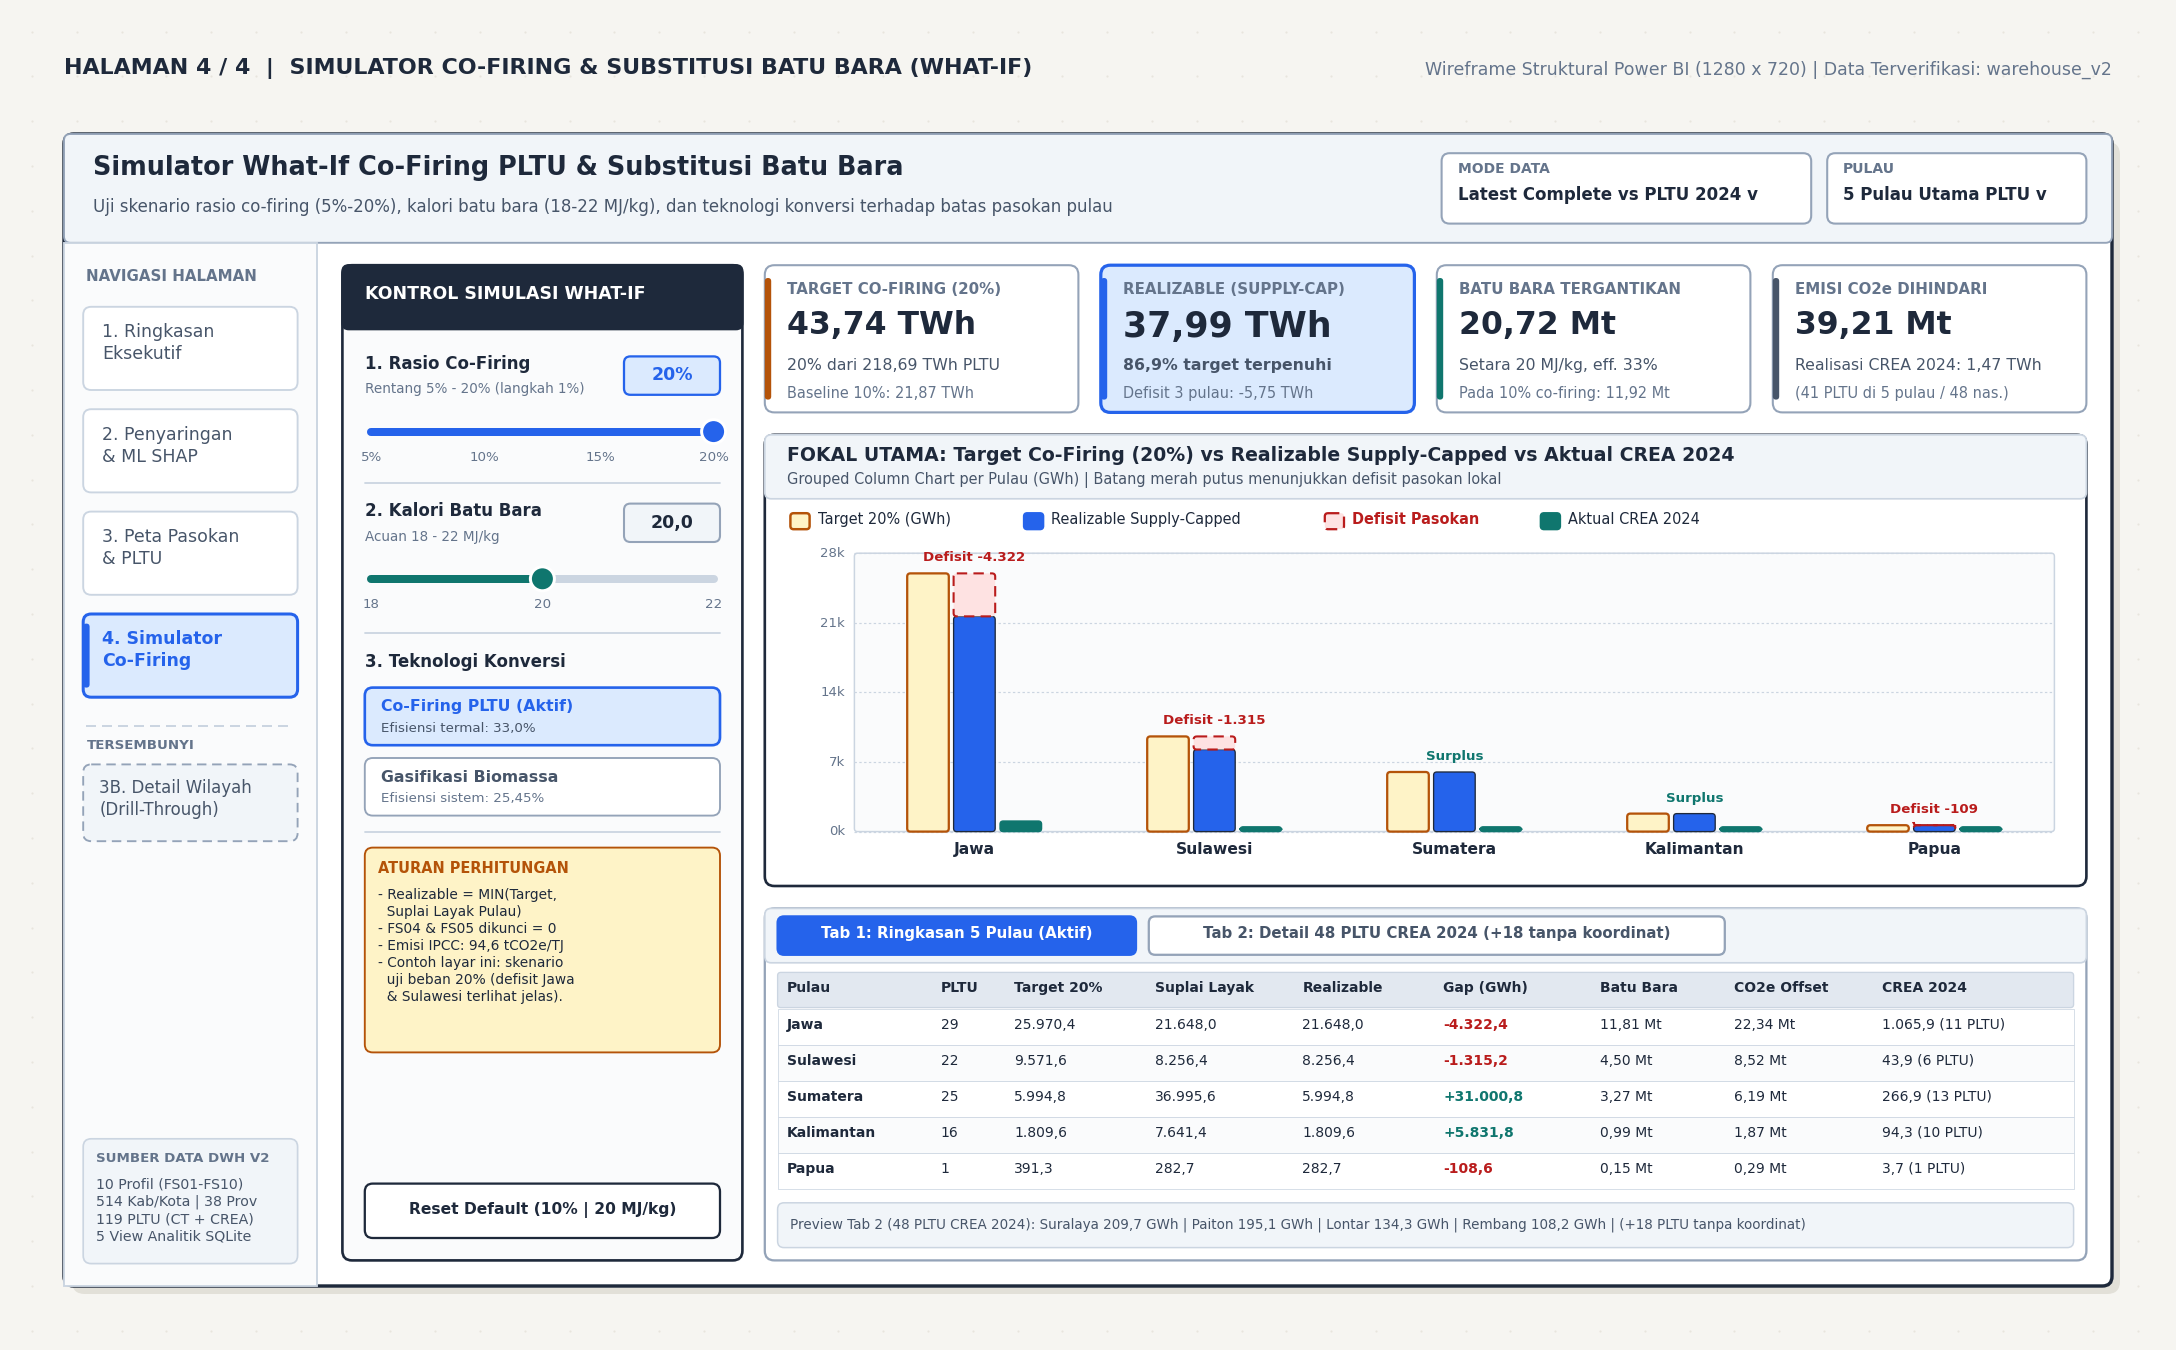

The page's visual inventory and layout, read from the dashboard file:
{"tool":"powerbi","page":{"name":"Simulator Co-Firing","canvas":[1280,720],"ordinal":3},"visuals":[{"type":"pageNavigator","box":[0,115.6,188.9,397.4],"z":3000},{"type":"slicer","fields":{"Values":["Param CoFiring Pct.Param CoFiring Pct"]},"box":[197.2,117.7,200.3,72.3],"z":5000},{"type":"slicer","fields":{"Values":["Param Coal HHV.Param Coal HHV"]},"box":[197.2,197.2,200.3,78.5],"z":6000},{"type":"slicer","fields":{"Values":["dim_conversion_tech.tech_name"]},"box":[197.2,285.9,200.3,292.1],"z":7000},{"type":"card","title":"TARGET CO-FIRING (20%)","fields":{"Values":["_Measures.Sim Target Co-Firing (GWh)"]},"box":[409.8,117.7,197.2,128],"z":8000},{"type":"card","title":"REALIZABLE (SUPPLY-CAP)","fields":{"Values":["_Measures.Sim Realizable Supply-Capped (GWh)"]},"box":[616.3,117.7,203.4,128],"z":9000},{"type":"card","title":"BATU BARA TERGANTIKAN","fields":{"Values":["_Measures.Sim Coal Saved Realizable (Mt)"]},"box":[833,117.7,211.6,128],"z":10000},{"type":"card","title":"EMISI CO2e DIHINDARI","fields":{"Values":["_Measures.Sim CO2e Offset Realizable (Mt)"]},"box":[1051.9,117.7,216.8,128],"z":11000},{"type":"clusteredColumnChart","title":"Co-Firing Target vs. Supply-Capped Potential","fields":{"Category":["dim_location.pulau"],"Y":["_Measures.Sim Target Co-Firing (GWh)","_Measures.Sim Realizable Supply-Capped (GWh)","_Measures.CREA 2024 Actual Co-Firing (GWh)"]},"box":[409.8,261.2,858.8,251.9],"z":12000},{"type":"tableEx","fields":{"Values":["dim_power_plant.nama_pltu_standar","dim_power_plant.pulau","dim_power_plant.has_coordinates","_Measures.CREA 2024 Biomassa per PLTU (kt)","_Measures.CREA 2024 per PLTU (GWh)"]},"box":[424.3,523.4,816.5,197.2],"z":13000},{"type":"textbox","box":[11.4,12.9,1257.1,91.4],"z":14000},{"type":"slicer","fields":{"Values":["dim_view_mode.view_mode_label"]},"box":[1081,19,173,72],"z":14500},{"type":"slicer","fields":{"Values":["dim_view_mode.view_mode_label"]},"box":[705.7,18.6,175.7,71.4],"z":15000},{"type":"slicer","fields":{"Values":["dim_location.pulau"]},"box":[890,19,180,71],"z":16000}]}

Visuals, with their boxes on the page's 1280x720 design canvas (x1, y1, x2, y2). These are canvas units, not pixel positions in the 2176x1350 screenshot, which may show the page scaled, cropped or inside an application window:
pageNavigator: 0:116:189:513
slicer - Param CoFiring Pct.Param CoFiring Pct: 197:118:398:190
slicer - Param Coal HHV.Param Coal HHV: 197:197:398:276
slicer - dim_conversion_tech.tech_name: 197:286:398:578
"TARGET CO-FIRING (20%)" card: 410:118:607:246
"REALIZABLE (SUPPLY-CAP)" card: 616:118:820:246
"BATU BARA TERGANTIKAN" card: 833:118:1045:246
"EMISI CO2e DIHINDARI" card: 1052:118:1269:246
"Co-Firing Target vs. Supply-Capped Potential" clusteredColumnChart: 410:261:1269:513
tableEx - dim_power_plant.nama_pltu_standar x dim_power_plant.pulau: 424:523:1241:721
textbox: 11:13:1268:104
slicer - dim_view_mode.view_mode_label: 1081:19:1254:91
slicer - dim_view_mode.view_mode_label: 706:19:881:90
slicer - dim_location.pulau: 890:19:1070:90
